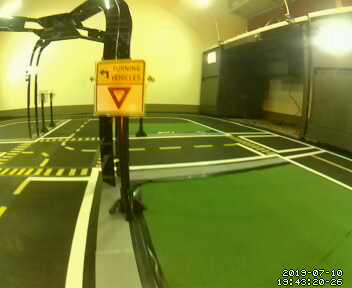Turn Yield: (95, 58, 144, 115)
